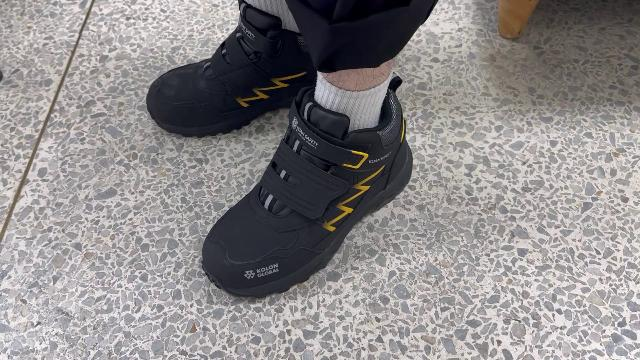shoe_worn: (199, 89, 421, 298), (152, 8, 323, 133)
